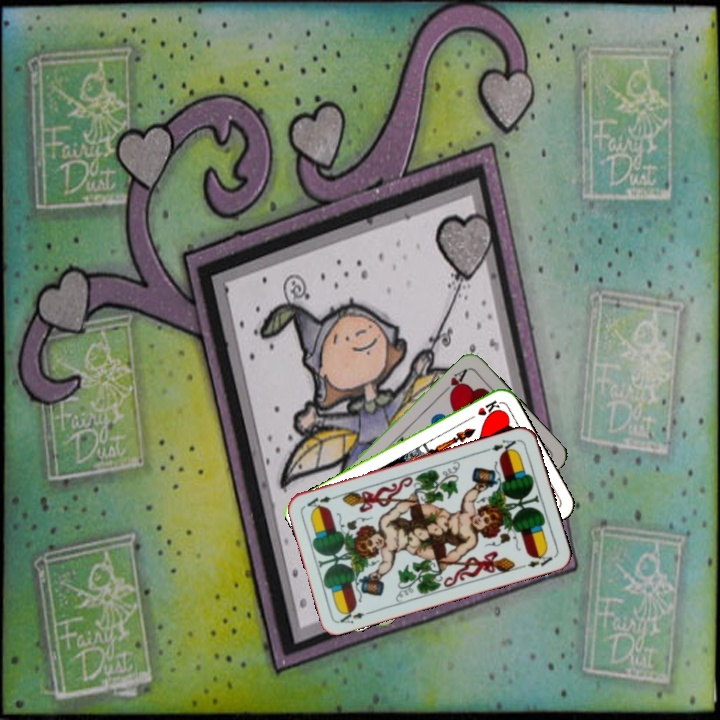EA: (481, 435, 521, 456), (335, 605, 375, 626)
HA: (438, 364, 470, 399)
HK: (464, 396, 503, 423)
